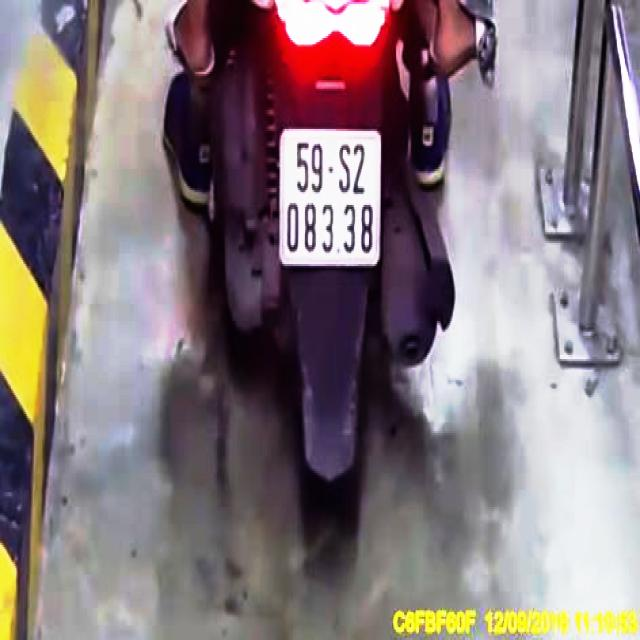license_plate: (280, 135, 383, 265)
